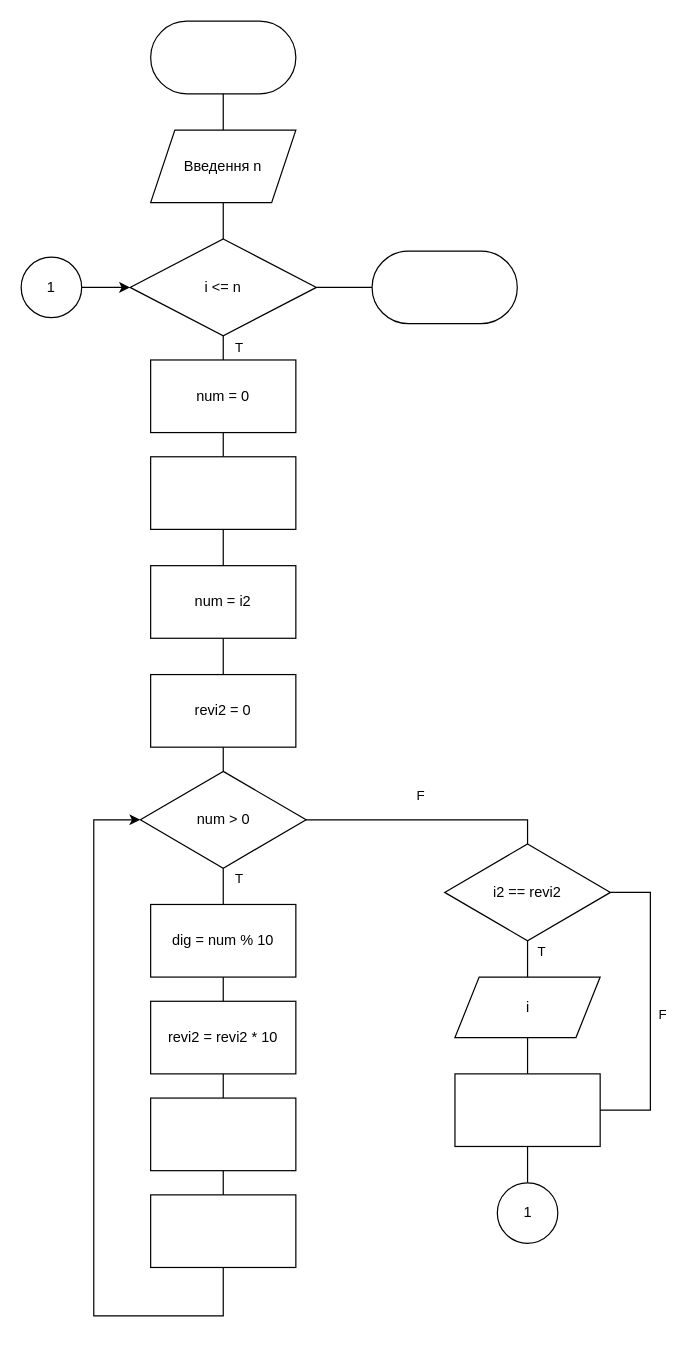
Some shapes in this 687 by 1347 pixel diagram are drawn without their labels. The centre of each missing label's shape, as x and y in pixels:
"End" belongs at (444,287).
"i++" belongs at (527,1109).
"i2 = i * i" belongs at (222,492).
"num = num / 10" belongs at (222,1230).
"revi2 += dig" belongs at (222,1134).
"Start" belongs at (222,57).
